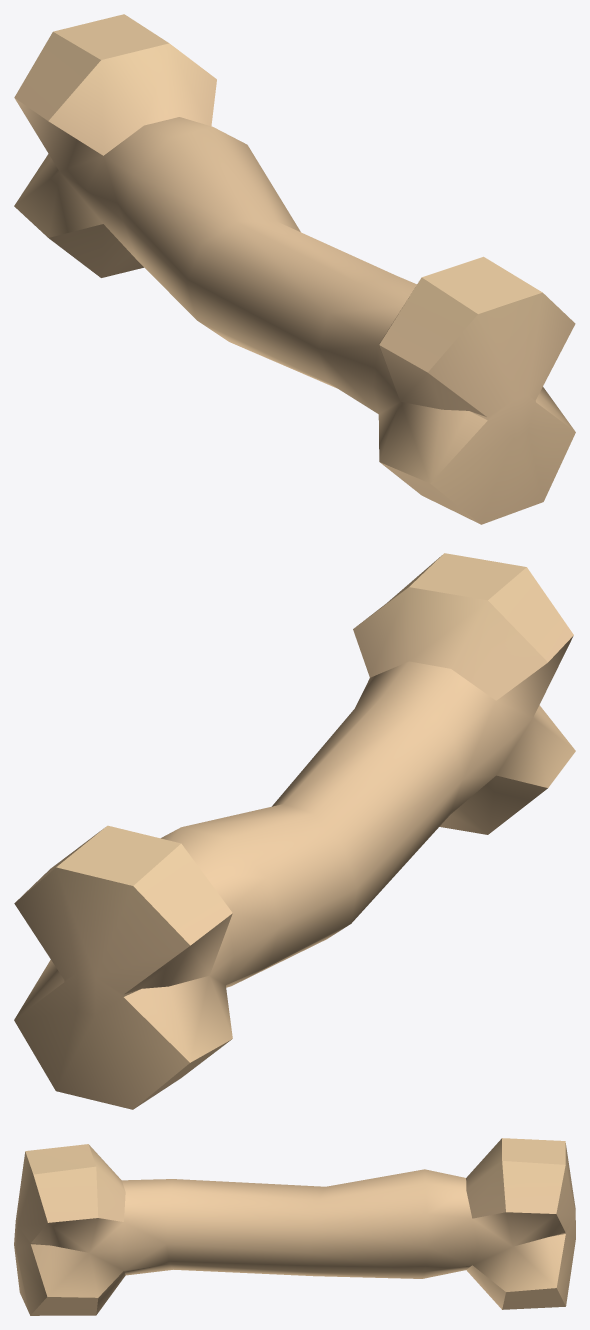
The model's file is Bones_3.glb.
3 views of the same model, one above another, from view 1: azimuth 30°, elevation 25°; view 2: azimuth 150°, elevation 25°; view 3: azimuth 270°, elevation 25° (orthographic). The views are drawn at different scales.
Visible parts, largest first — view 1: Bones_3; view 2: Bones_3; view 3: Bones_3.
Part boxes in pixels (x1,y1,x2,y2): Bones_3: (14, 14, 575, 524); Bones_3: (14, 553, 575, 1109); Bones_3: (14, 1138, 575, 1315).
Size of the model in its own units: 0.0539 by 0.0585 by 0.1999.
Materials: 1 (1 with a texture image).
